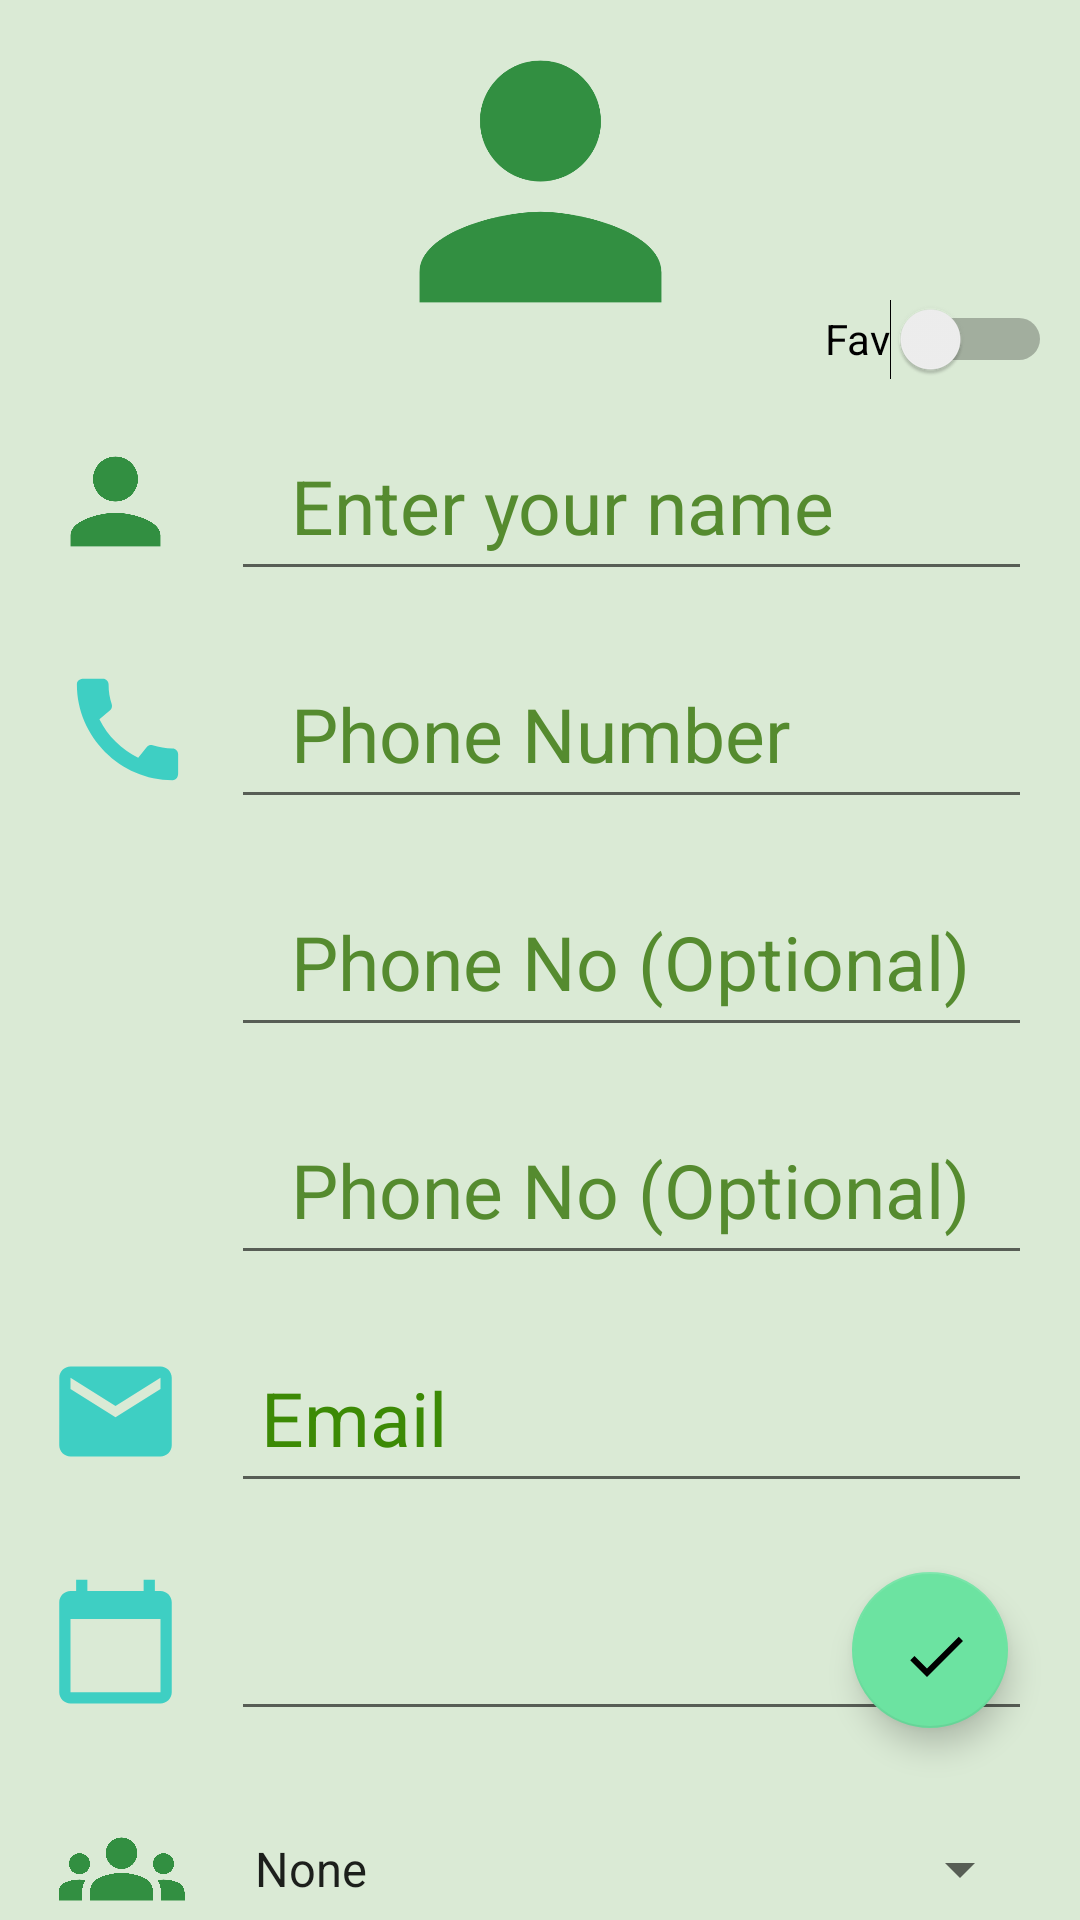

Where to tap for icons on this 1080x1920 app screen, as (x=x, y=y):
calendar today: (x=115, y=1641)
call: (x=127, y=729)
check: (x=930, y=1650)
groups: (x=122, y=1869)
